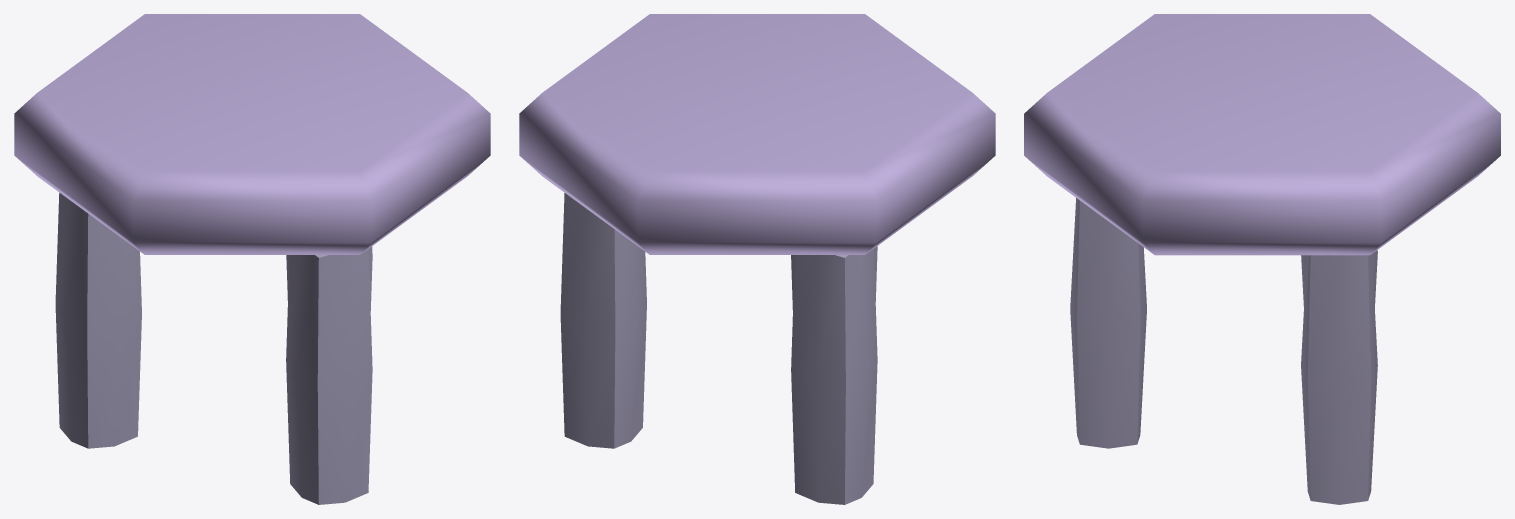
The model's file is stool.glb.
3 views of the same model, side by side, from view 1: azimuth 30°, elevation 25°; view 2: azimuth 150°, elevation 25°; view 3: azimuth 270°, elevation 25° (orthographic).
Visible parts, largest first — view 1: part (×3); view 2: part (×3); view 3: part (×3).
Boxes of the visible parts, x1,y1,x2,y2 form: part (×3): (14,14,490,504); part (×3): (519,14,995,504); part (×3): (1024,14,1500,504).
Size of the model in its own units: 0.5369 by 0.5 by 0.62.
Materials: 1 (1 with a texture image).
